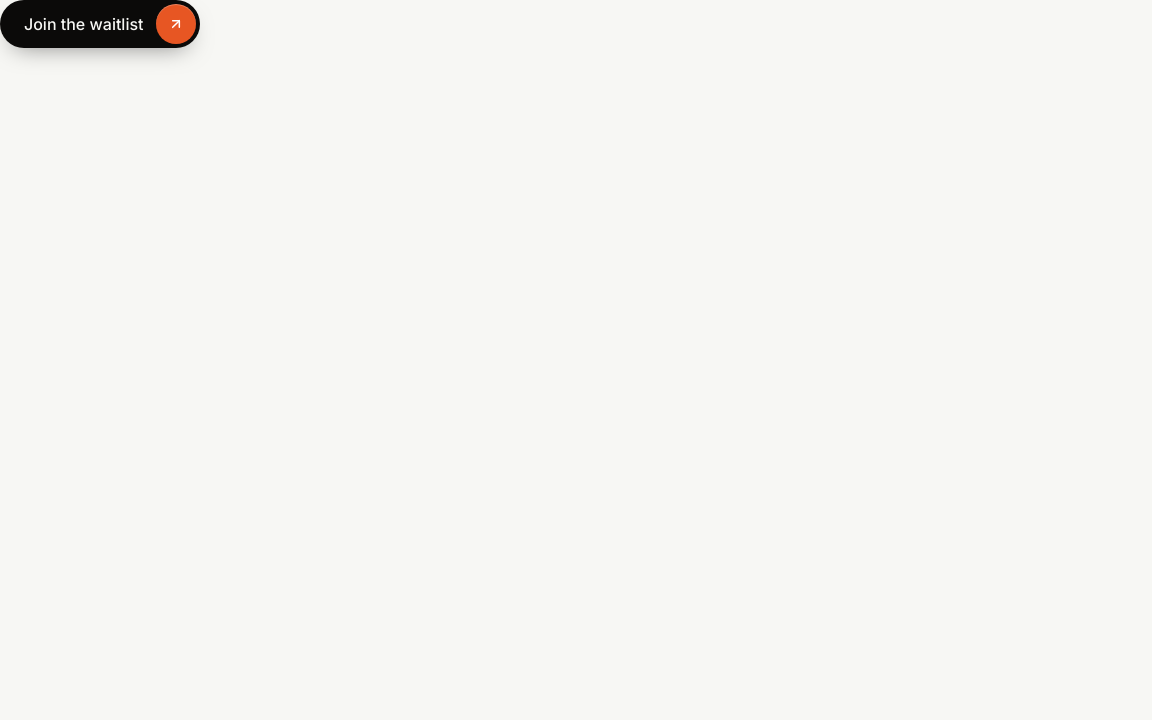
WaitlistCta + waitlist panel › opens the panel with the questions when the pill is pressed
Click the button "Join the waitlist": click(100, 24) x1=0 y1=0 x2=200 y2=48
(page scrolled)
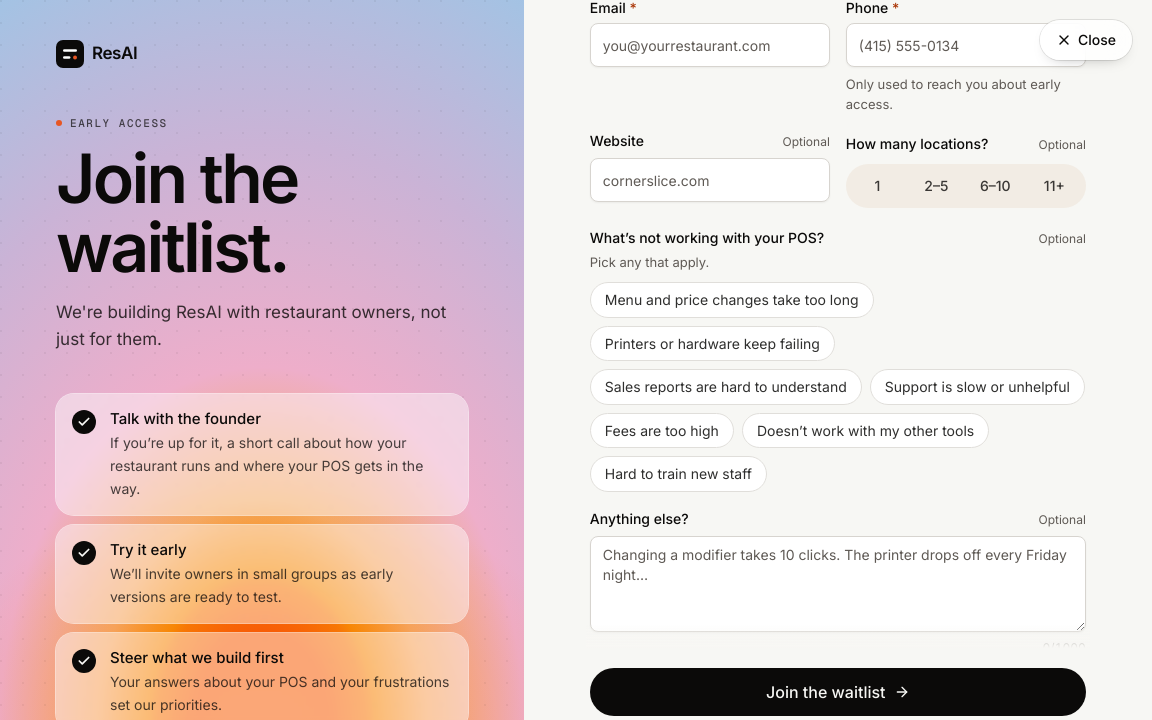
Now the dialog "Join the waitlist" is shown
Now the field labelled "Phone *" is shown, box x1=846 y1=23 x2=1086 y2=67
Now the element "not working with your POS" is shown, box x1=590 y1=228 x2=1086 y2=492
